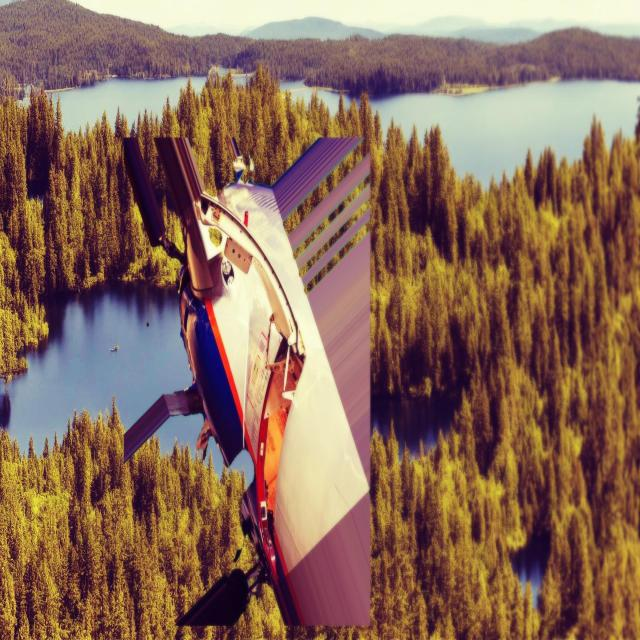airplane: (120, 131, 372, 629)
